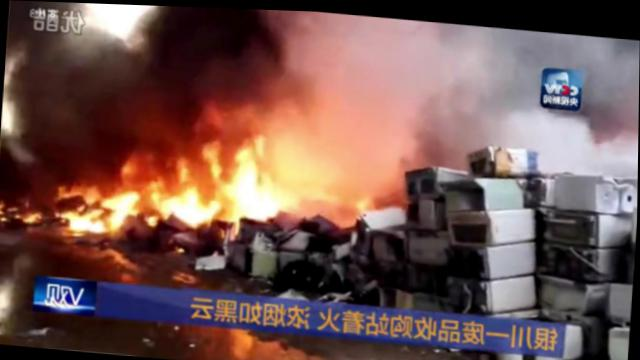fire: (217, 146, 289, 222), (158, 175, 218, 222), (103, 185, 145, 222), (66, 207, 106, 234)
